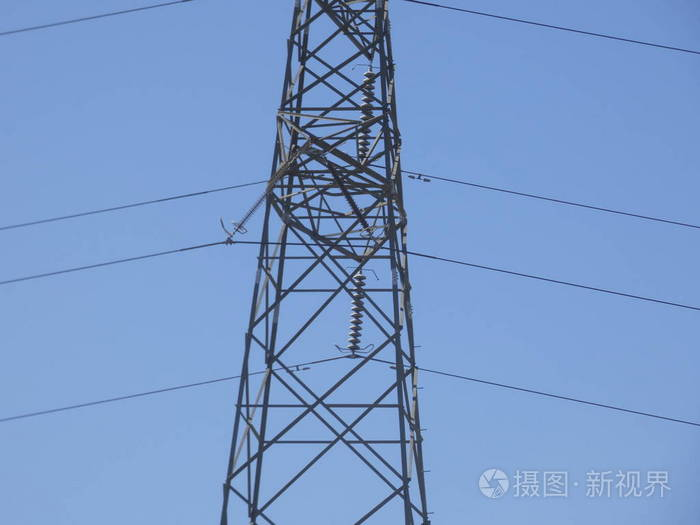insulator: (348, 271, 370, 345), (358, 70, 377, 155)
